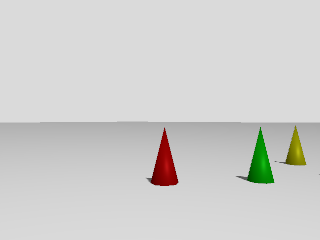green: (246, 126, 275, 184)
red: (151, 129, 177, 185)
yellow: (286, 126, 305, 164)
